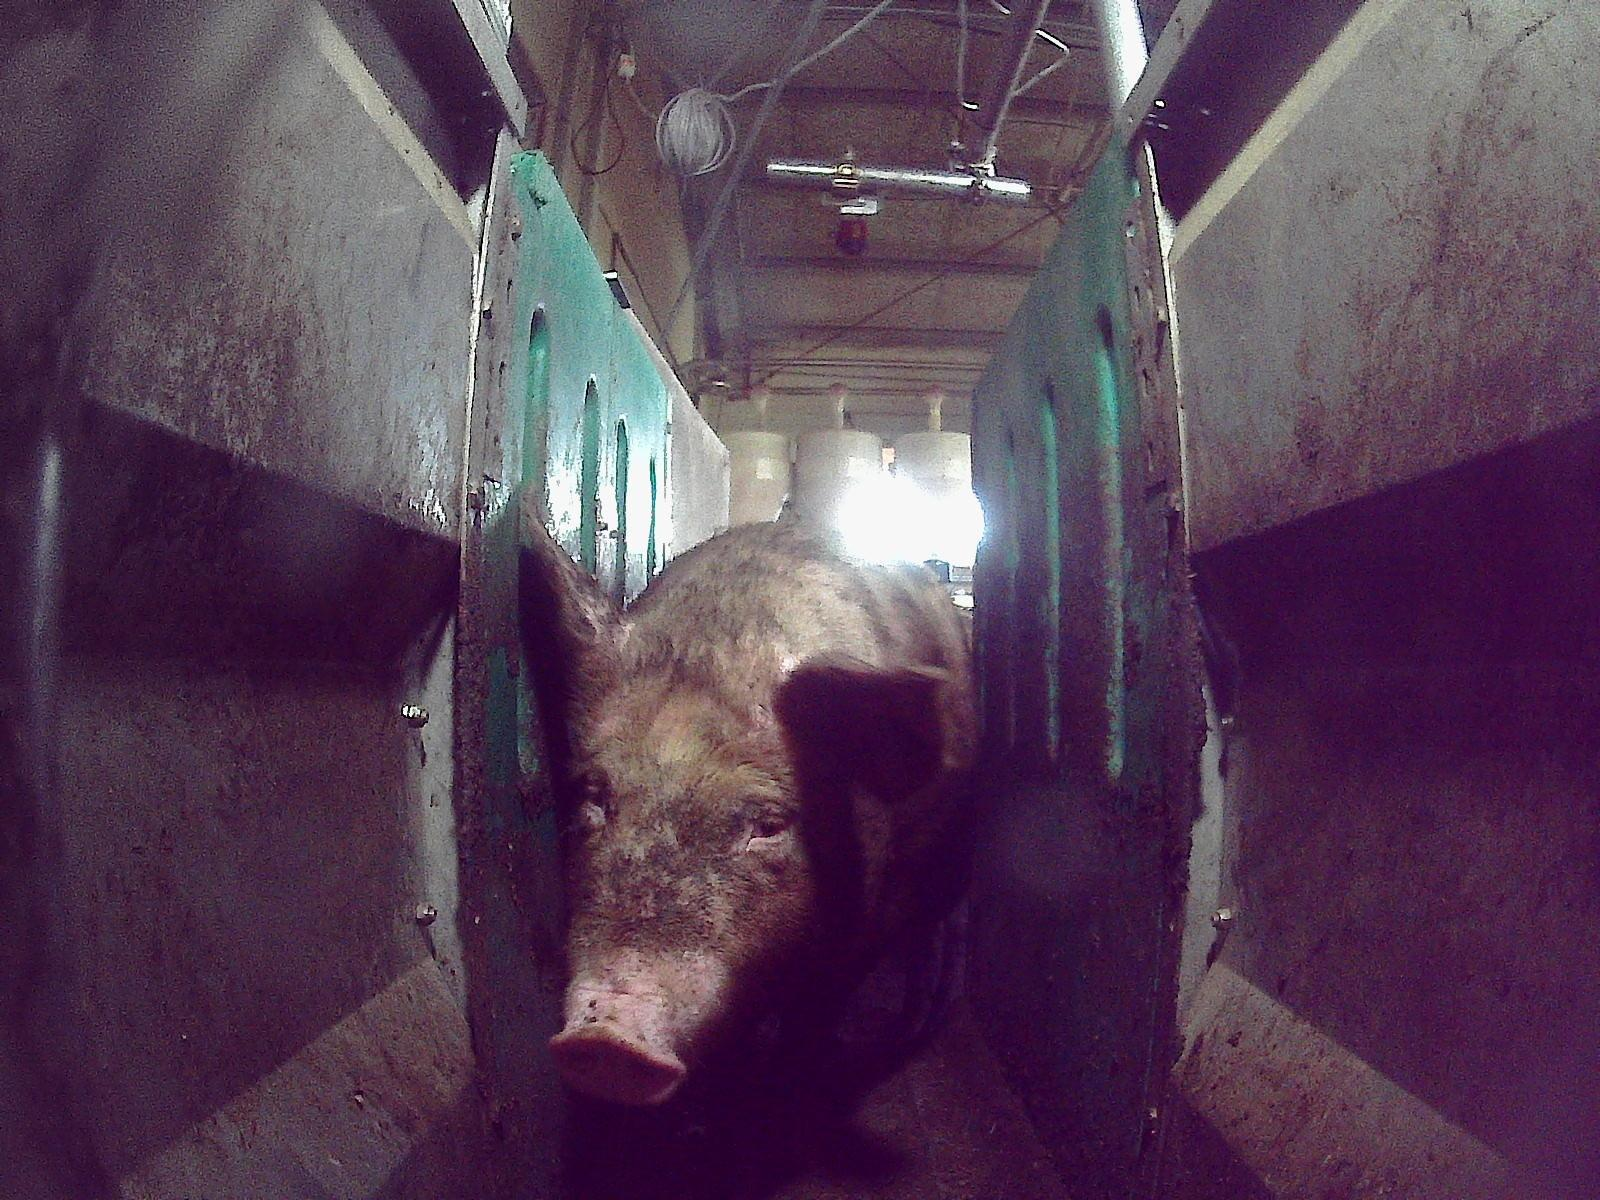Face: (547, 675, 820, 1107)
